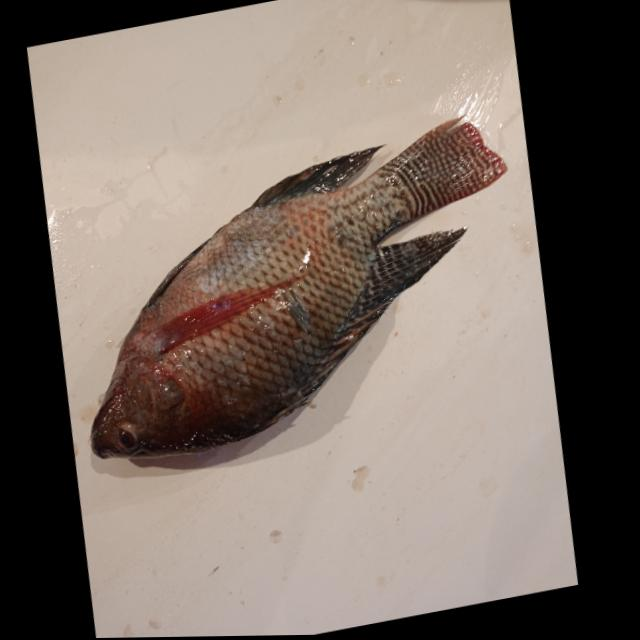Tilapia: (41, 105, 548, 472)
